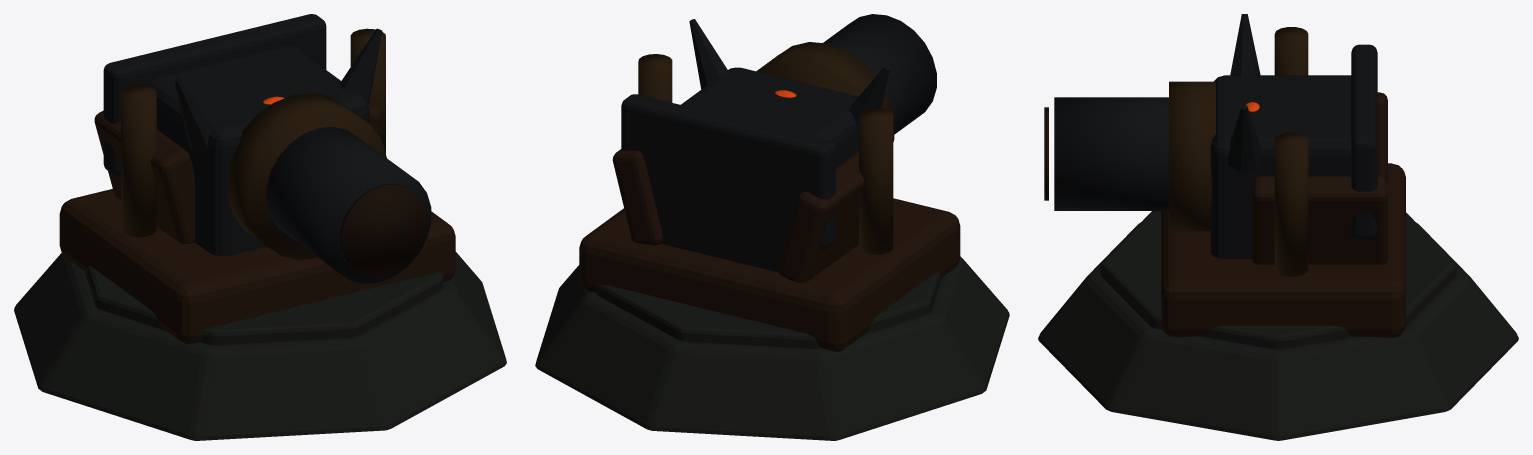
Rendered from TowerChaos2_pose.obj.
3 renders of one model, left to right at view 1: azimuth 30°, elevation 25°; view 2: azimuth 150°, elevation 25°; view 3: azimuth 270°, elevation 25°, orthographic. The views are drawn at different scales.
Parts seen in each view (by area): view 1: black_stone_furnace_base_lower_course, oak_fire_cradle, iron_furnace_jacket, iron_blast_barrel, black_stone_furnace_base_upper_course, bronze_blast_collar, iron_furnace_shield, black_fire_mouth, bronze_pressure_pipe, oak_bellows_arm, iron_heat_fin, bronze_pressure_pipe.001 (+1 smaller); view 2: black_stone_furnace_base_lower_course, oak_fire_cradle, iron_furnace_jacket, iron_furnace_shield, black_stone_furnace_base_upper_course, iron_blast_barrel, oak_bellows_arm, bronze_pressure_pipe, bronze_blast_collar, oak_bellows_arm.001, bronze_pressure_pipe.001, iron_heat_fin.001 (+1 smaller); view 3: black_stone_furnace_base_lower_course, oak_fire_cradle, iron_furnace_jacket, iron_blast_barrel, black_stone_furnace_base_upper_course, oak_bellows_arm.001, bronze_blast_collar, bronze_pressure_pipe.001, iron_furnace_shield, bronze_pressure_pipe, iron_heat_fin.001, iron_heat_fin (+2 smaller).
Part boxes in pixels (x1,y1,x2,y2): black_stone_furnace_base_lower_course: [14, 252, 506, 440]; oak_fire_cradle: [59, 189, 455, 344]; iron_furnace_jacket: [147, 46, 369, 256]; iron_blast_barrel: [266, 126, 431, 283]; black_stone_furnace_base_upper_course: [84, 265, 442, 345]; bronze_blast_collar: [227, 93, 386, 259]; iron_furnace_shield: [103, 14, 326, 175]; black_fire_mouth: [339, 183, 426, 277]; bronze_pressure_pipe: [121, 84, 156, 237]; oak_bellows_arm: [94, 110, 195, 243]; iron_heat_fin: [174, 77, 217, 153]; bronze_pressure_pipe.001: [350, 28, 385, 153]; black_stone_furnace_base_lower_course: [535, 256, 1009, 440]; oak_fire_cradle: [579, 198, 960, 351]; iron_furnace_jacket: [656, 67, 859, 272]; iron_furnace_shield: [621, 94, 835, 249]; black_stone_furnace_base_upper_course: [597, 272, 941, 348]; iron_blast_barrel: [823, 14, 936, 134]; oak_bellows_arm: [778, 151, 864, 282]; bronze_pressure_pipe: [859, 108, 893, 254]; bronze_blast_collar: [756, 42, 894, 141]; oak_bellows_arm.001: [612, 149, 663, 245]; bronze_pressure_pipe.001: [638, 54, 672, 102]; iron_heat_fin.001: [689, 19, 730, 89]; black_stone_furnace_base_lower_course: [1038, 222, 1518, 440]; oak_fire_cradle: [1161, 163, 1405, 337]; iron_furnace_jacket: [1210, 75, 1351, 258]; iron_blast_barrel: [1054, 97, 1168, 210]; black_stone_furnace_base_upper_course: [1100, 211, 1456, 349]; oak_bellows_arm.001: [1252, 176, 1387, 264]; bronze_blast_collar: [1169, 81, 1215, 231]; bronze_pressure_pipe.001: [1274, 132, 1308, 276]; iron_furnace_shield: [1351, 44, 1377, 239]; bronze_pressure_pipe: [1274, 27, 1308, 75]; iron_heat_fin.001: [1227, 105, 1260, 171]; iron_heat_fin: [1230, 14, 1260, 77].
Size of the model in its own units: 1.85 by 1.19 by 1.85.
